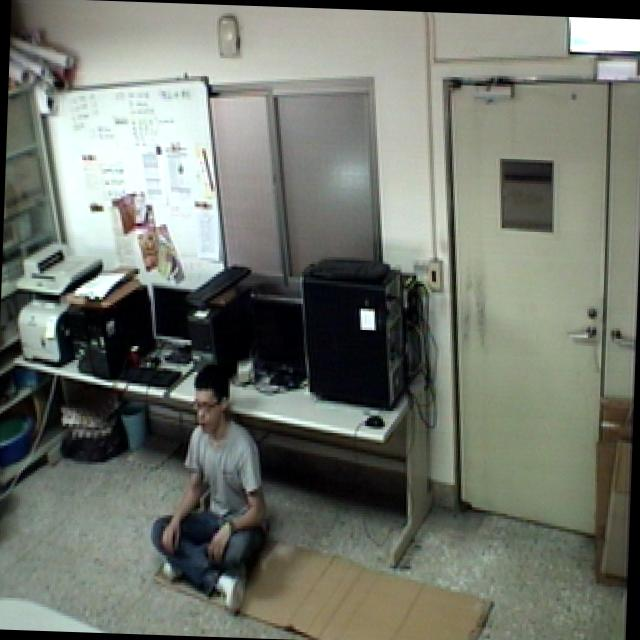sit: (146, 344, 286, 623)
